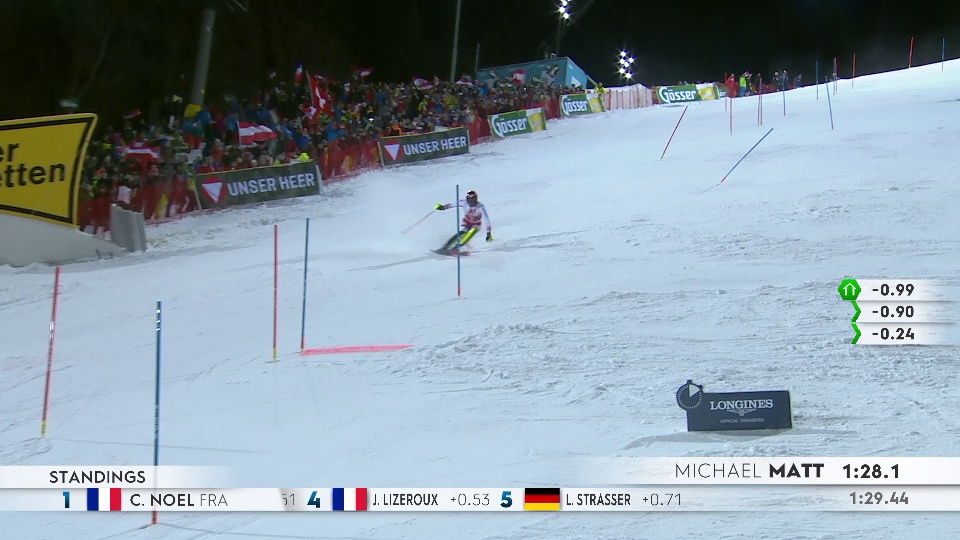goesser: (487, 112, 546, 137), (660, 88, 711, 105), (563, 98, 598, 116)
interwetten: (1, 127, 84, 215)
longines: (709, 396, 781, 422)
unserheer: (201, 170, 315, 206), (384, 128, 474, 163)
